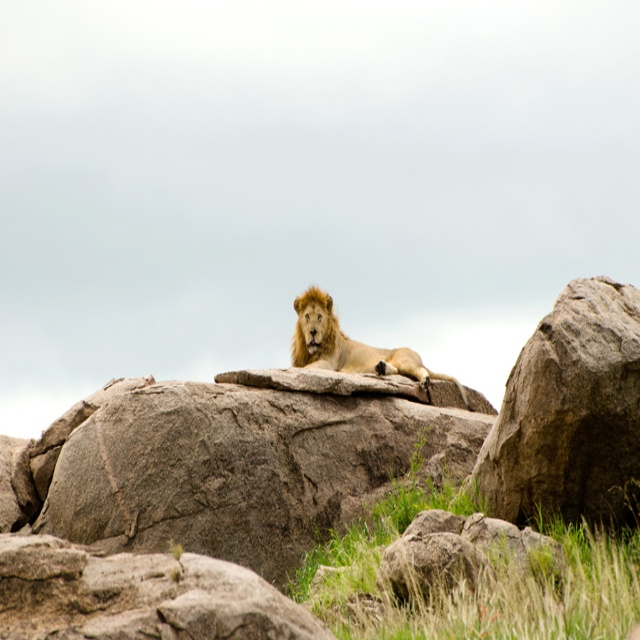Lion: (287, 284, 476, 412)
